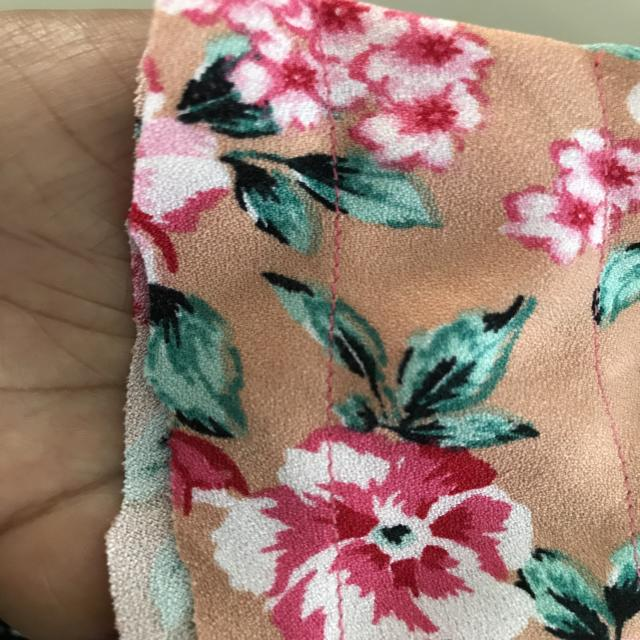good: (312, 213, 356, 303)
